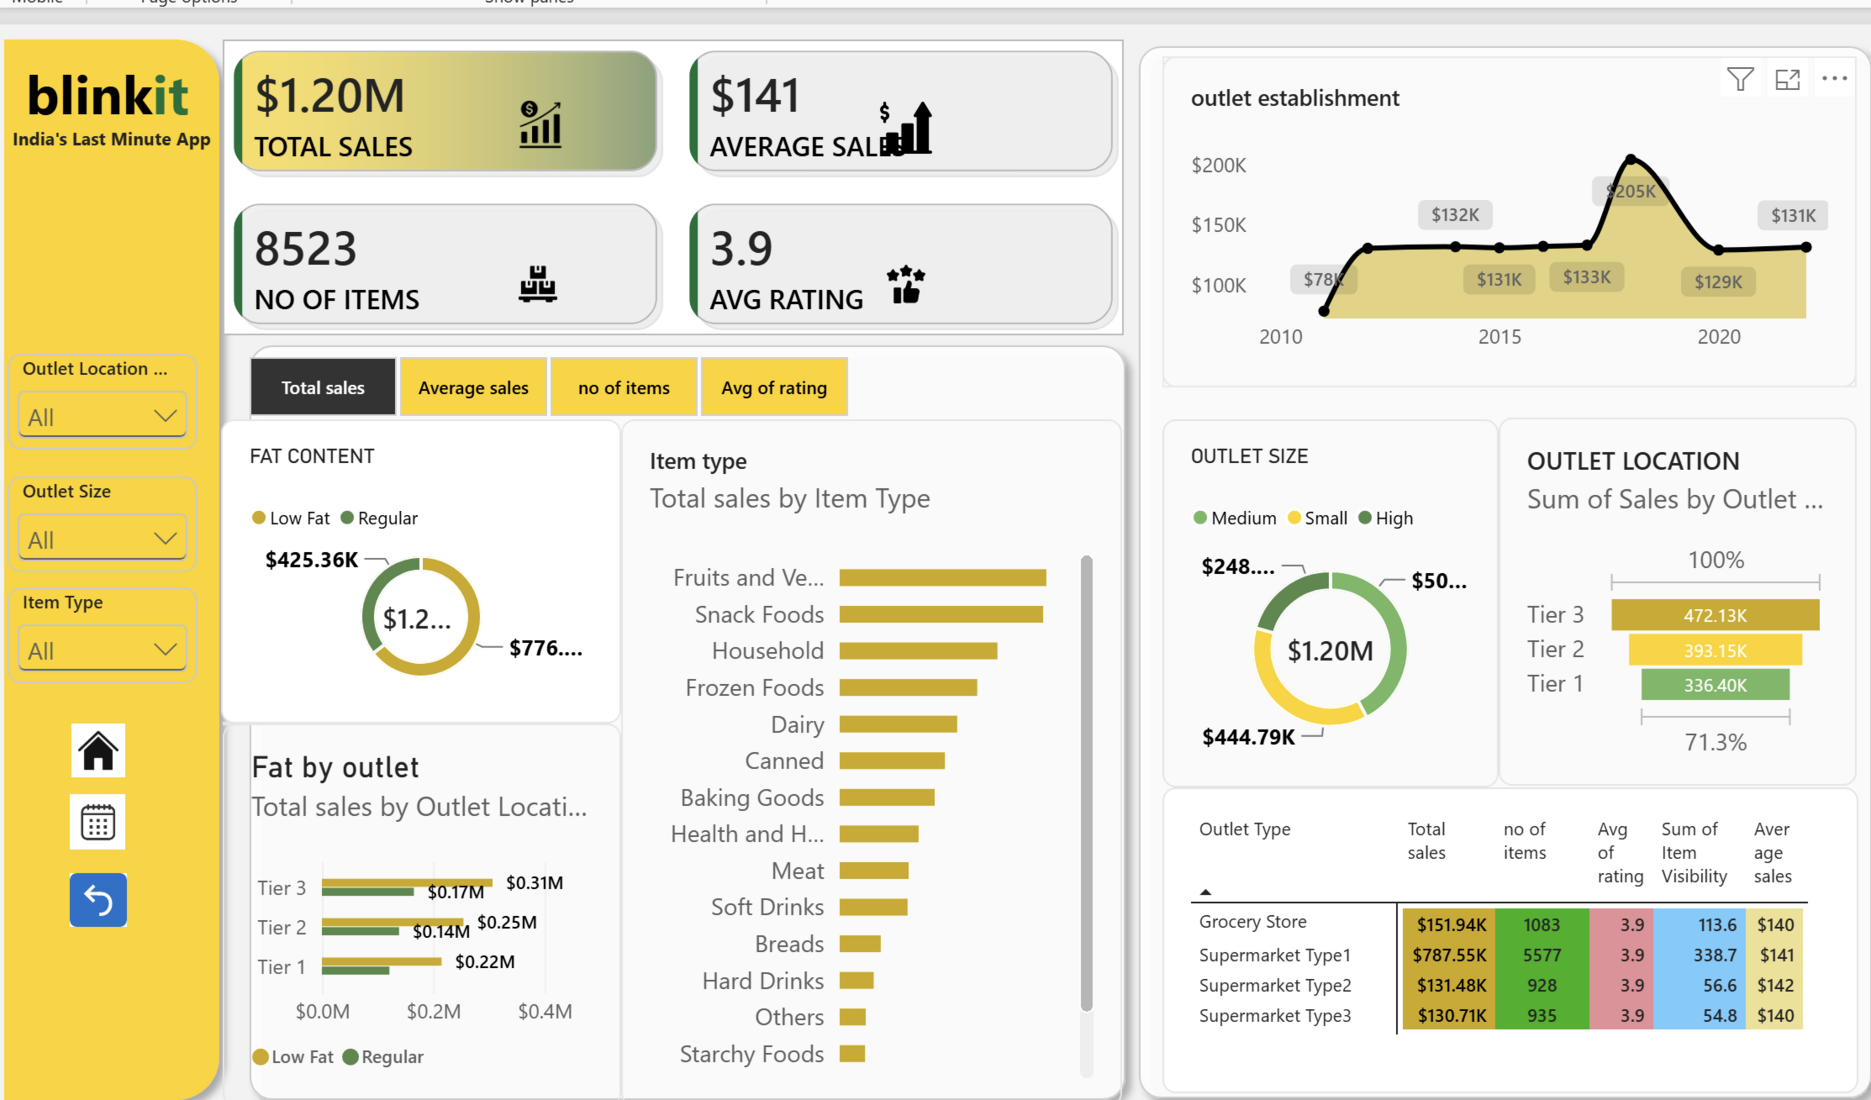

This screenshot's page, from the dashboard's own definition file:
{"tool":"powerbi","page":{"name":"Page 1","canvas":[1200,1400],"ordinal":0},"visuals":[{"type":"shape","box":[0,0,146,649],"z":0},{"type":"textbox","box":[22,19,117,62],"z":1000},{"type":"textbox","box":[0,57,146,21],"z":2000},{"type":"cardVisual","fields":{"Data":["BlinkIT Grocery Data.Total sales","BlinkIT Grocery Data.Average sales","BlinkIT Grocery Data.no of items","BlinkIT Grocery Data.Avg of rating"]},"box":[139,9,536,176],"z":3000},{"type":"image","box":[311,45,34,29],"z":4000},{"type":"image","box":[525,45,41,33],"z":5000},{"type":"image","box":[311,143,31,23],"z":6000},{"type":"image","box":[530,143,31,23],"z":7000},{"type":"shape","box":[146,182,539,467],"z":8000},{"type":"donutChart","title":"FAT CONTENT","fields":{"Category":["BlinkIT Grocery Data.Item Fat Content"],"Y":["BlinkIT Grocery Data.Total sales"]},"box":[138,235,238,181],"z":9000},{"type":"slicer","fields":{"Values":["Parameter.Parameter"]},"box":[134,196,396,39],"z":10000},{"type":"clusteredBarChart","title":"Fat by outlet","fields":{"Category":["BlinkIT Grocery Data.Outlet Location Type"],"Series":["BlinkIT Grocery Data.Item Fat Content"],"Y":["BlinkIT Grocery Data.Total sales"]},"box":[139,416,237,228],"z":11000},{"type":"shape","box":[139,396,217,40],"z":12000},{"type":"barChart","title":"Item type","fields":{"Category":["BlinkIT Grocery Data.Item Type"],"Y":["BlinkIT Grocery Data.Total sales"]},"box":[376,235,298,409],"z":13000},{"type":"shape","box":[675,4,454,644],"z":14000},{"type":"lineChart","title":"outlet establishment","fields":{"Category":["BlinkIT Grocery Data.Outlet Establishment Year"],"Y":["BlinkIT Grocery Data.Total sales"]},"box":[698,19,413,197],"z":15000},{"type":"donutChart","title":"OUTLET SIZE","fields":{"Category":["BlinkIT Grocery Data.Outlet Size"],"Y":["BlinkIT Grocery Data.Total sales"]},"box":[698,235,200,219],"z":16000},{"type":"funnel","title":"OUTLET LOCATION","fields":{"Category":["BlinkIT Grocery Data.Outlet Location Type"],"Y":["Sum(BlinkIT Grocery Data.Sales)"]},"box":[898,234,213,219],"z":17000},{"type":"pivotTable","fields":{"Rows":["BlinkIT Grocery Data.Outlet Type"],"Values":["BlinkIT Grocery Data.Total sales","BlinkIT Grocery Data.no of items","BlinkIT Grocery Data.Avg of rating","Sum(BlinkIT Grocery Data.Item Visibility)","BlinkIT Grocery Data.Average sales"]},"box":[698,454,414,182],"z":18000},{"type":"slicer","fields":{"Values":["BlinkIT Grocery Data.Outlet Location Type"]},"box":[11,196,113,57],"z":18001},{"type":"slicer","fields":{"Values":["BlinkIT Grocery Data.Outlet Size"]},"box":[11,269,113,57],"z":18002},{"type":"slicer","fields":{"Values":["BlinkIT Grocery Data.Item Type"]},"box":[11,335,113,57],"z":18003},{"type":"actionButton","box":[48,505,34,32],"z":18004},{"type":"image","box":[48,416,34,32],"z":18005},{"type":"image","box":[48,454,33,41],"z":18006}]}

Visuals, with their boxes on the page's 1200x1400 design canvas (x1, y1, x2, y2). These are canvas units, not pixel positions in the 1871x1100 screenshot, which may show the page scaled, cropped or inside an application window:
shape: [0, 0, 146, 649]
textbox: [22, 19, 139, 81]
textbox: [0, 57, 146, 78]
cardVisual - BlinkIT Grocery Data.Total sales x BlinkIT Grocery Data.Average sales: [139, 9, 675, 185]
image: [311, 45, 345, 74]
image: [525, 45, 566, 78]
image: [311, 143, 342, 166]
image: [530, 143, 561, 166]
shape: [146, 182, 685, 649]
"FAT CONTENT" donutChart: [138, 235, 376, 416]
slicer - Parameter.Parameter: [134, 196, 530, 235]
"Fat by outlet" clusteredBarChart: [139, 416, 376, 644]
shape: [139, 396, 356, 436]
"Item type" barChart: [376, 235, 674, 644]
shape: [675, 4, 1129, 648]
"outlet establishment" lineChart: [698, 19, 1111, 216]
"OUTLET SIZE" donutChart: [698, 235, 898, 454]
"OUTLET LOCATION" funnel: [898, 234, 1111, 453]
pivotTable - BlinkIT Grocery Data.Outlet Type x BlinkIT Grocery Data.Total sales: [698, 454, 1112, 636]
slicer - BlinkIT Grocery Data.Outlet Location Type: [11, 196, 124, 253]
slicer - BlinkIT Grocery Data.Outlet Size: [11, 269, 124, 326]
slicer - BlinkIT Grocery Data.Item Type: [11, 335, 124, 392]
actionButton: [48, 505, 82, 537]
image: [48, 416, 82, 448]
image: [48, 454, 81, 495]
